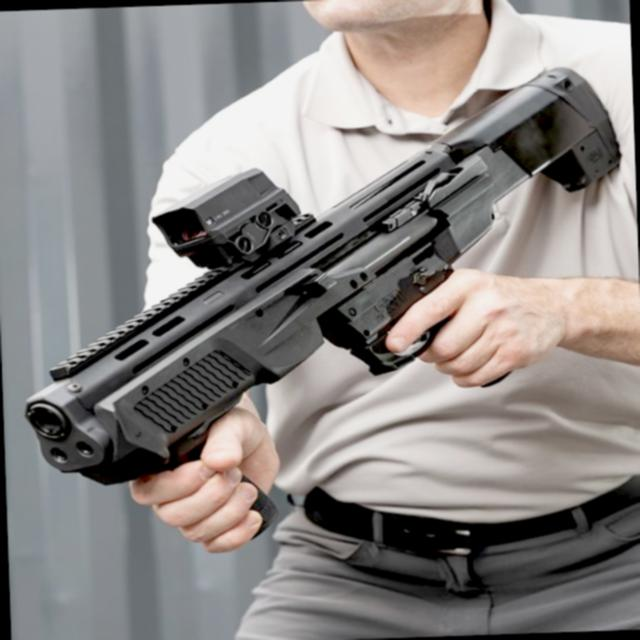shotgun: (0, 25, 640, 554)
